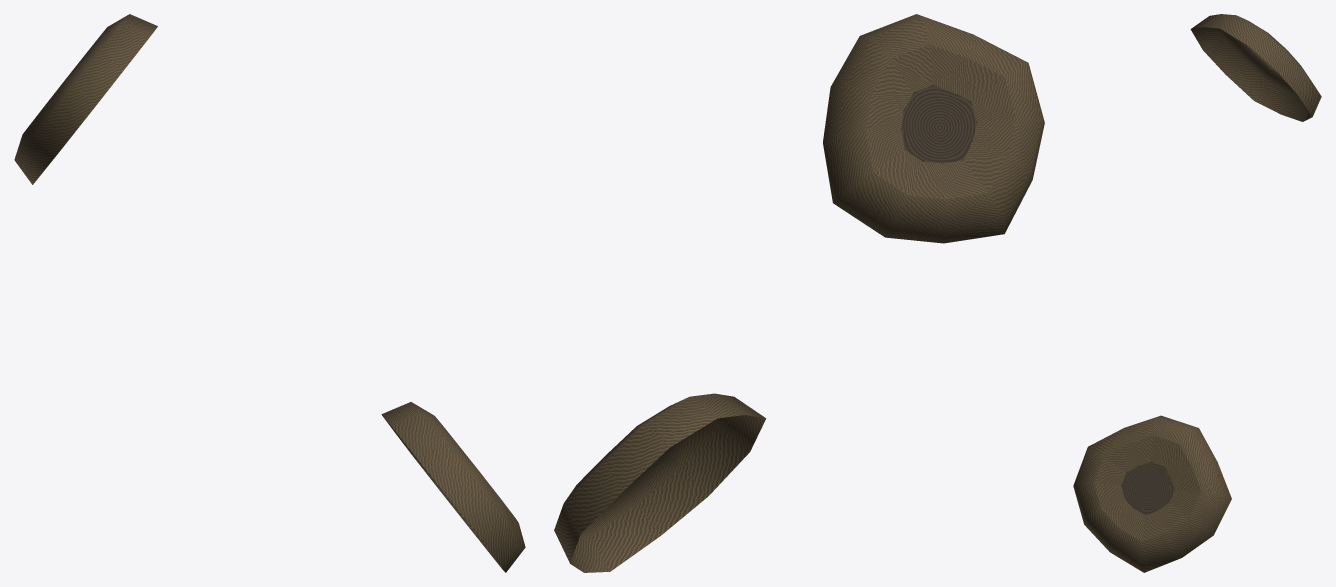
File: Sessile_Oak_Young_01_LowPruned_Healed_LOD2.fbx
The picture shows the model from 3 angles, left to right: view 1: azimuth 30°, elevation 25°; view 2: azimuth 150°, elevation 25°; view 3: azimuth 270°, elevation 25°; orthographic projection. The views are drawn at different scales.
Visible parts, largest first — view 1: Sessile_Oak_Young_01_LowPruned_Healed_LOD2_Scars; view 2: Sessile_Oak_Young_01_LowPruned_Healed_LOD2_Scars; view 3: Sessile_Oak_Young_01_LowPruned_Healed_LOD2_Scars.
Boxes of the visible parts, <box> form: Sessile_Oak_Young_01_LowPruned_Healed_LOD2_Scars: <box>14,14,525,572</box>; Sessile_Oak_Young_01_LowPruned_Healed_LOD2_Scars: <box>554,14,1044,572</box>; Sessile_Oak_Young_01_LowPruned_Healed_LOD2_Scars: <box>1073,14,1321,572</box>.
Size of what is drawn, in the model's own units: 24.04 by 31.03 by 15.9.
Materials: 2 (2 with a texture image).
